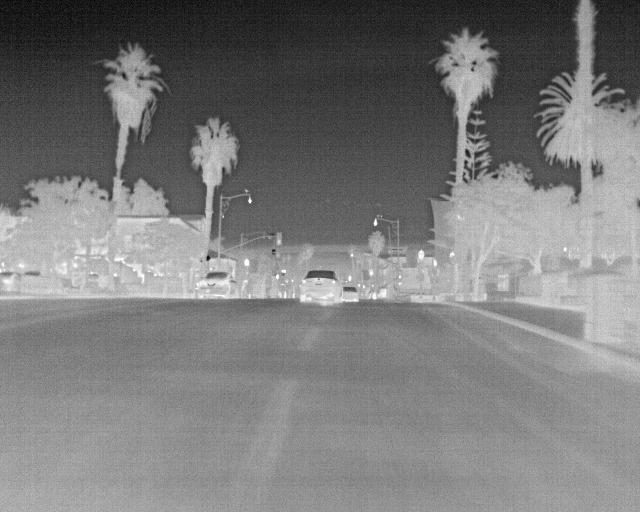car: (300, 268, 340, 303), (193, 270, 239, 298), (339, 285, 360, 305)
